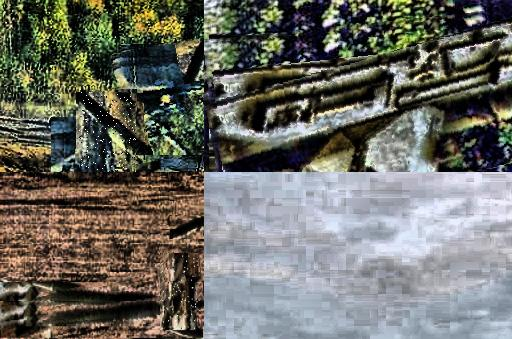tanks: (209, 18, 512, 173), (113, 58, 205, 155), (80, 92, 136, 173), (27, 303, 205, 326), (162, 255, 199, 330), (171, 218, 205, 240), (194, 326, 196, 331)
